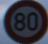Speed Limit -80-: (0, 0, 47, 43)
